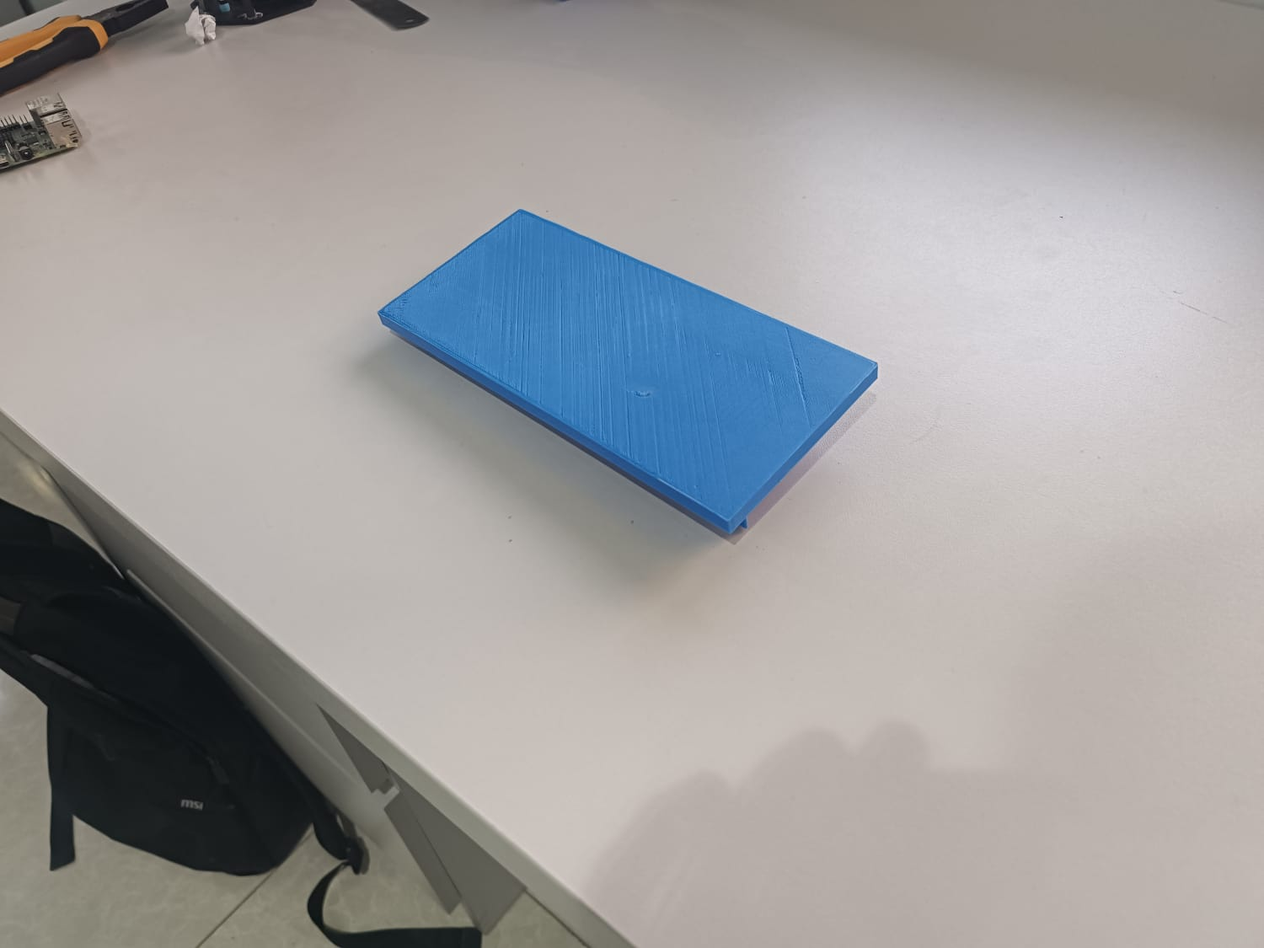Rectangular: (365, 196, 887, 549)
